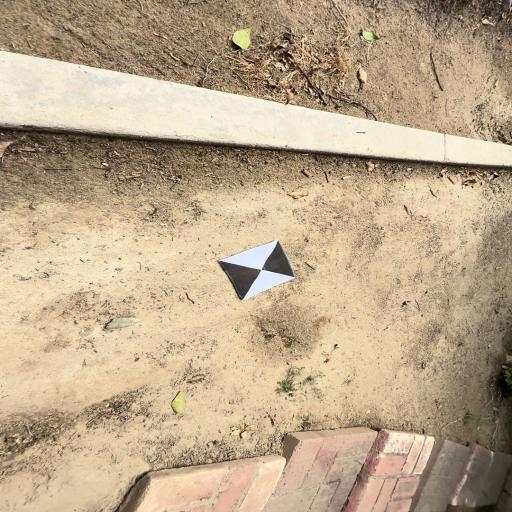target: (217, 239, 296, 301)
